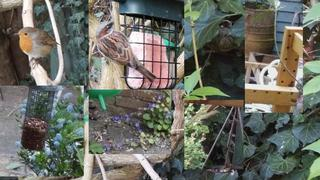robin: (14, 27, 62, 69)
sparrow: (95, 21, 158, 83)
